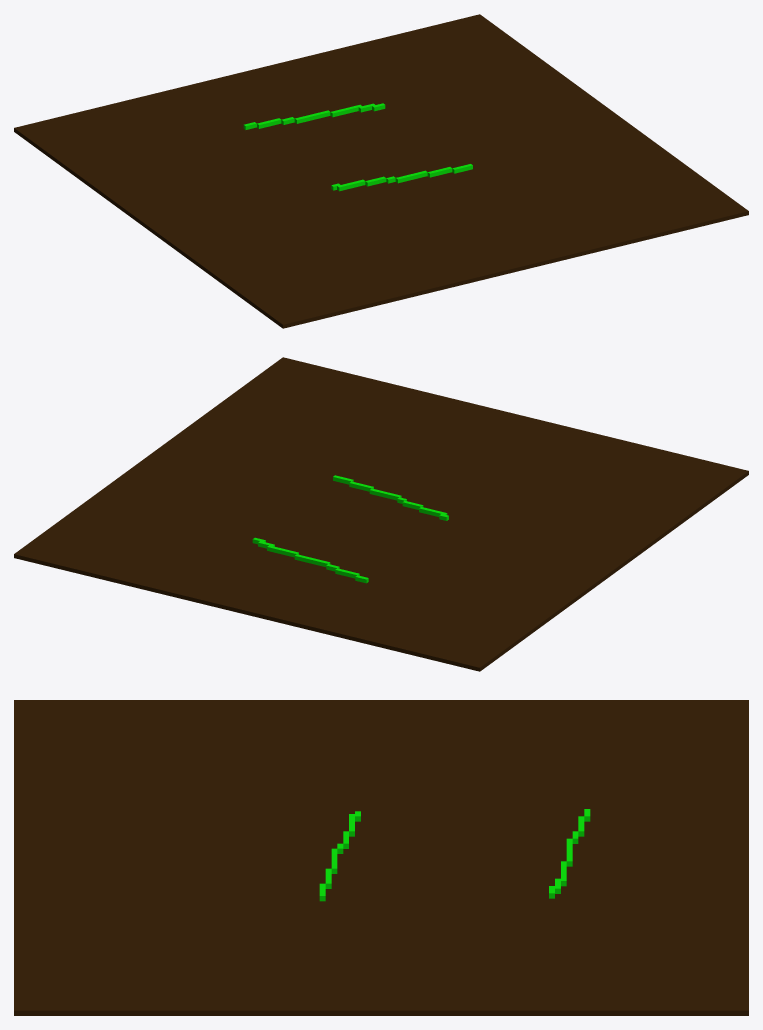
The model's file is Level01-10.obj.
3 views of the same model, one above another, from view 1: azimuth 30°, elevation 25°; view 2: azimuth 150°, elevation 25°; view 3: azimuth 270°, elevation 25° (orthographic). The views are drawn at different scales.
Parts seen in each view (by area): view 1: Level01-10; view 2: Level01-10; view 3: Level01-10.
Boxes of the visible parts, bbox=[...] form: Level01-10: bbox=[14, 14, 748, 328]; Level01-10: bbox=[14, 357, 748, 671]; Level01-10: bbox=[14, 700, 748, 1015].
Size of the model in its own units: 125 by 2 by 125.
Materials: 1 (1 with a texture image).
